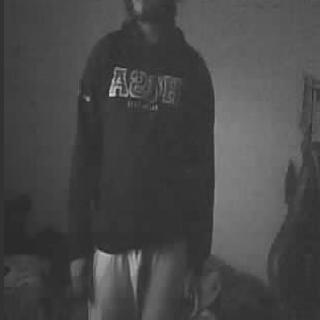HOSA hoodie: (68, 26, 213, 253)
White Sweatpants: (88, 247, 186, 320)
